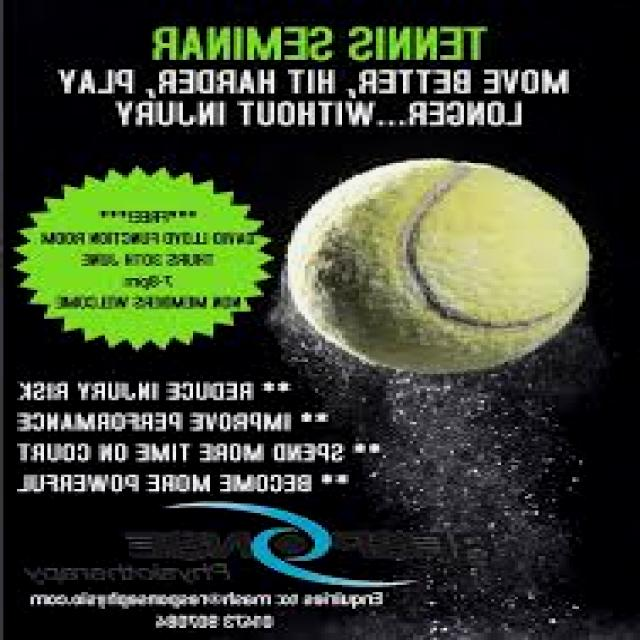Tennis Ball: (287, 156, 588, 378)
